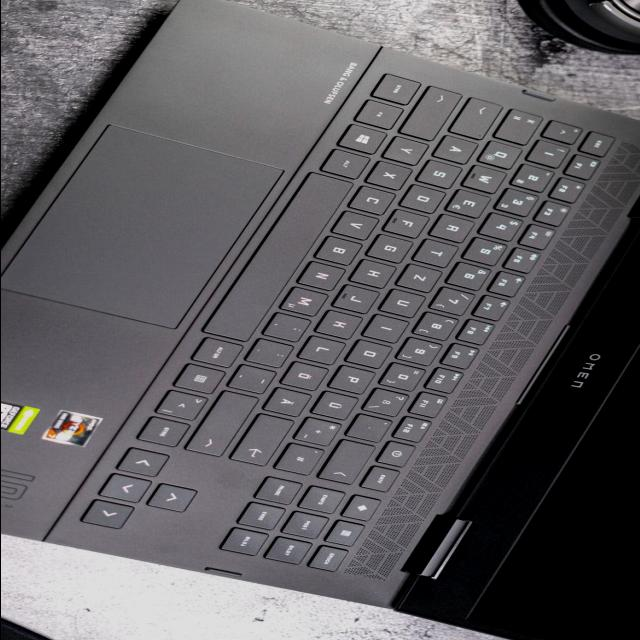0: (383, 361, 429, 391)
1: (530, 138, 574, 168)
2: (514, 162, 558, 192)
3: (499, 187, 543, 217)
4: (482, 210, 527, 241)
5: (466, 235, 510, 265)
6: (449, 260, 494, 290)
7: (433, 285, 480, 315)
8: (417, 310, 462, 340)
9: (400, 335, 446, 365)
a: (436, 133, 482, 164)
accent: (349, 412, 396, 444)
ae: (266, 386, 316, 418)
alt-left: (323, 147, 374, 179)
altgr-right: (195, 336, 248, 368)
b: (318, 234, 366, 266)
c: (351, 184, 399, 216)
caret: (542, 120, 586, 144)
comma: (265, 311, 315, 343)
d: (402, 183, 450, 214)
del: (321, 439, 380, 485)
e: (450, 188, 496, 218)
enter: (232, 413, 298, 467)
f: (387, 208, 434, 238)
g: (370, 232, 417, 263)
h: (352, 257, 400, 289)
hash: (277, 442, 330, 475)
i: (366, 312, 414, 344)
j: (335, 283, 385, 315)
k: (318, 308, 366, 340)
keyboard: (38, 59, 628, 590)
l: (300, 334, 350, 366)
m: (283, 285, 333, 317)
minus: (233, 363, 281, 395)
n: (301, 260, 349, 292)
o: (349, 338, 397, 370)
oe: (283, 359, 333, 391)
p: (332, 363, 380, 395)
plus: (300, 415, 347, 447)
point: (250, 337, 298, 369)
q: (483, 139, 527, 169)
r: (433, 213, 479, 243)
s: (419, 158, 466, 188)
shift-left: (401, 85, 467, 141)
shift-lock: (450, 96, 508, 140)
shift-right: (188, 390, 262, 456)
space: (203, 170, 357, 340)
ss: (367, 386, 412, 418)
strg-left: (373, 73, 424, 105)
strg-right: (138, 415, 192, 447)
t: (417, 237, 463, 269)
tab: (496, 108, 546, 146)
u: (383, 287, 431, 319)
ue: (315, 389, 363, 421)
v: (335, 209, 383, 241)
w: (466, 163, 512, 194)
x: (368, 159, 416, 190)
y: (385, 134, 433, 166)
z: (400, 262, 447, 294)
